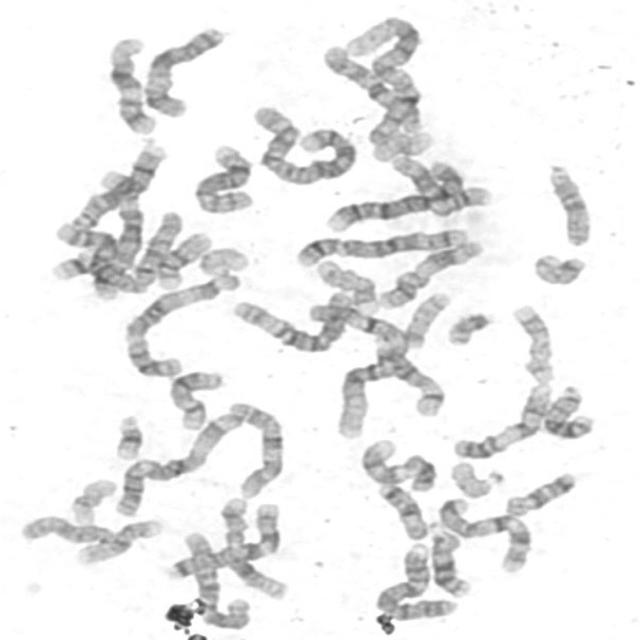A1: (301, 293, 449, 420), (340, 12, 427, 144)
A2: (52, 206, 186, 294), (247, 100, 361, 187)
A3: (107, 400, 273, 518), (117, 268, 243, 380)
B4: (321, 154, 469, 233), (369, 540, 463, 622)
B5: (290, 223, 473, 268), (86, 165, 146, 298)
C10: (317, 40, 426, 136), (224, 395, 288, 501)
C11: (372, 234, 486, 311), (386, 151, 487, 217)
C12: (216, 495, 292, 601), (102, 31, 162, 136)
C6: (227, 285, 356, 354), (191, 530, 256, 630)
C7: (161, 497, 287, 582), (432, 493, 535, 575)
C8: (64, 136, 170, 234), (189, 139, 258, 215)
C9: (446, 377, 557, 461), (354, 434, 440, 494)
D13: (423, 518, 474, 599), (538, 379, 599, 441)
D14: (368, 336, 448, 418), (163, 364, 229, 432)
D15: (541, 158, 596, 248), (14, 511, 120, 547)
E16: (72, 513, 166, 567), (150, 227, 216, 290)
E17: (506, 298, 558, 384), (311, 254, 381, 310)
E18: (500, 466, 580, 518), (371, 479, 431, 540)
F19: (63, 473, 119, 526), (368, 128, 433, 164)
F20: (399, 287, 454, 349), (526, 248, 591, 287)
G21: (108, 408, 148, 462), (49, 246, 100, 278)
G22: (446, 456, 505, 499), (194, 244, 247, 282)
X: (137, 20, 229, 119)
Y: (440, 306, 494, 347)
